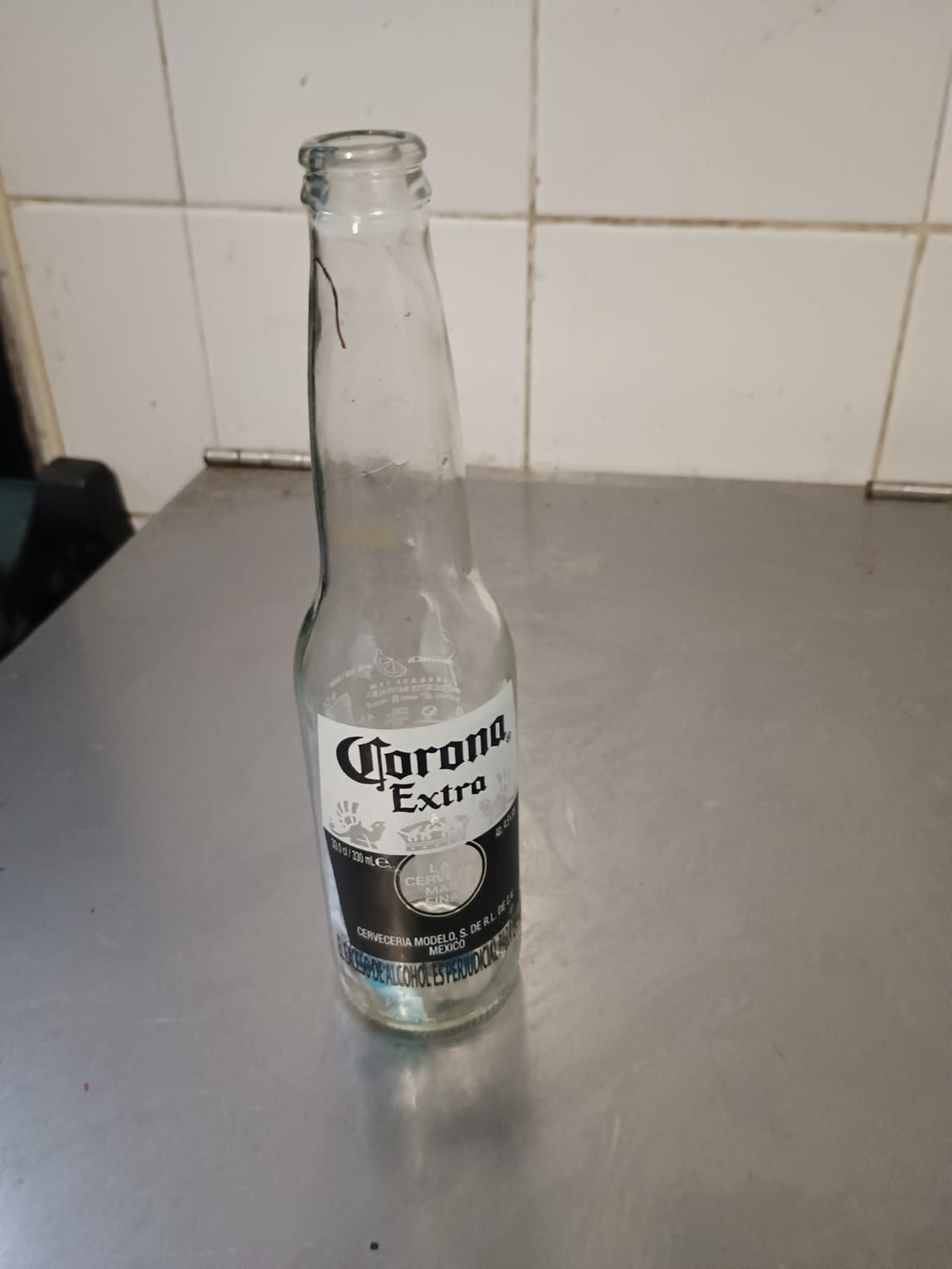Vidrio: (292, 127, 531, 1041)
